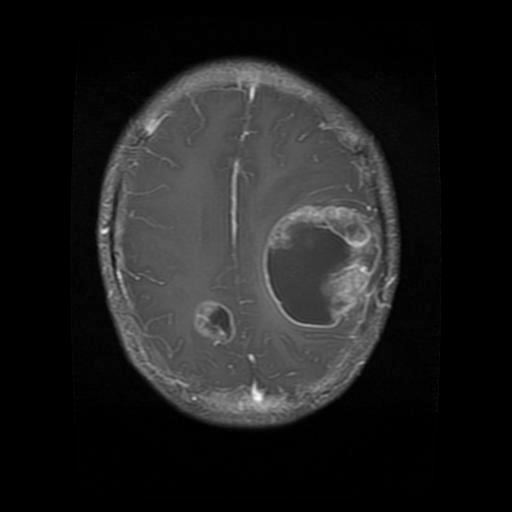Tumour-Glioma: (263, 212, 374, 320)
